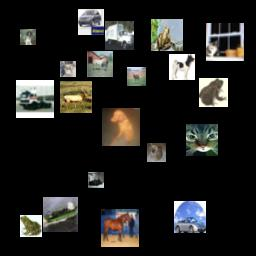automobile: (174, 201, 206, 233), (78, 9, 104, 35)
cat: (206, 23, 244, 61), (186, 124, 218, 156)
deer: (60, 81, 92, 113), (127, 67, 146, 86), (88, 172, 104, 188)
dog: (102, 108, 140, 146), (169, 54, 195, 80), (147, 143, 166, 162), (20, 29, 36, 45), (60, 61, 76, 77)
frog: (151, 19, 183, 51), (199, 78, 228, 107), (20, 215, 42, 237)
ship: (43, 197, 78, 232)
truck: (16, 80, 54, 118), (105, 21, 134, 50)
